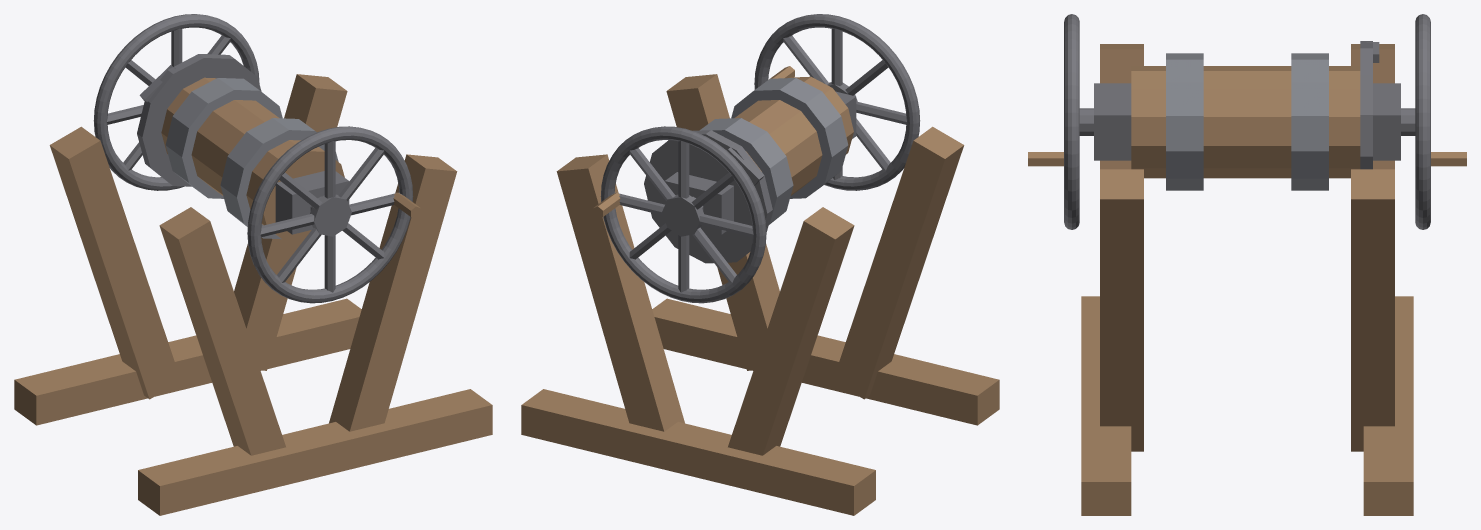
File: drawbridge_winch.glb
3 views of the same model, side by side, from view 1: azimuth 30°, elevation 25°; view 2: azimuth 150°, elevation 25°; view 3: azimuth 270°, elevation 25° (orthographic). The views are drawn at different scales.
Visible parts, largest first — view 1: Cube, Cube.003, Cube.005, Cube.002, Cube.001, Cube.006, Cylinder, Torus, Torus.001, Cylinder.004, Cylinder.003, Cylinder.002 (+6 smaller); view 2: Cube.001, Cube.006, Cube.002, Cube.005, Cube, Torus.001, Cube.003, Cylinder.004, Torus, Cylinder, Cylinder.002, Cylinder.003 (+9 smaller); view 3: Cylinder, Cube.003, Cube.006, Cube, Cube.001, Cylinder.002, Cylinder.003, Torus, Torus.001, Cube.004, Cube.007, Cube.002 (+5 smaller).
Part boxes in pixels (x1=…): Cube: x1=138, y1=389, x2=492, y2=515; Cube.003: x1=329, y1=154, x2=457, y2=431; Cube.005: x1=49, y1=126, x2=180, y2=399; Cube.002: x1=159, y1=207, x2=285, y2=455; Cube.001: x1=14, y1=298, x2=361, y2=425; Cube.006: x1=234, y1=74, x2=347, y2=370; Cylinder: x1=161, y1=77, x2=344, y2=240; Torus: x1=247, y1=126, x2=413, y2=303; Torus.001: x1=93, y1=14, x2=259, y2=190; Cylinder.004: x1=137, y1=54, x2=261, y2=186; Cylinder.003: x1=165, y1=78, x2=282, y2=198; Cylinder.002: x1=220, y1=118, x2=338, y2=239; Cube.001: x1=521, y1=389, x2=875, y2=515; Cube.006: x1=556, y1=154, x2=684, y2=431; Cube.002: x1=833, y1=126, x2=964, y2=399; Cube.005: x1=728, y1=207, x2=854, y2=455; Cube: x1=652, y1=298, x2=999, y2=425; Torus.001: x1=600, y1=126, x2=766, y2=303; Cube.003: x1=666, y1=74, x2=779, y2=370; Cylinder.004: x1=644, y1=130, x2=772, y2=263; Torus: x1=754, y1=14, x2=920, y2=190; Cylinder: x1=734, y1=76, x2=853, y2=195; Cylinder.002: x1=731, y1=78, x2=848, y2=198; Cylinder.003: x1=699, y1=118, x2=793, y2=224; Cylinder: x1=1131, y1=66, x2=1360, y2=178; Cube.003: x1=1100, y1=169, x2=1143, y2=451; Cube.006: x1=1351, y1=169, x2=1394, y2=451; Cube: x1=1081, y1=296, x2=1131, y2=515; Cube.001: x1=1363, y1=296, x2=1413, y2=515; Cylinder.002: x1=1166, y1=53, x2=1203, y2=190; Cylinder.003: x1=1291, y1=53, x2=1328, y2=190; Torus: x1=1064, y1=14, x2=1079, y2=229; Torus.001: x1=1415, y1=14, x2=1430, y2=229; Cube.004: x1=1094, y1=83, x2=1131, y2=160; Cube.007: x1=1373, y1=83, x2=1400, y2=160; Cube.002: x1=1100, y1=44, x2=1143, y2=169.
Size of the model in its own units: 1.4 by 1.4 by 1.4.
